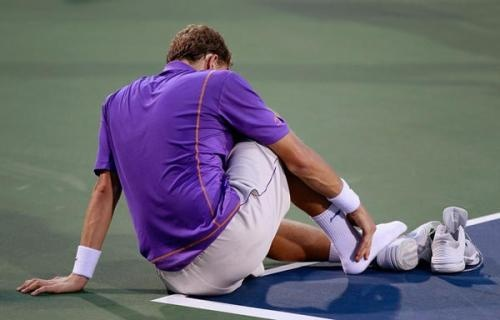falling: (36, 15, 461, 301)
